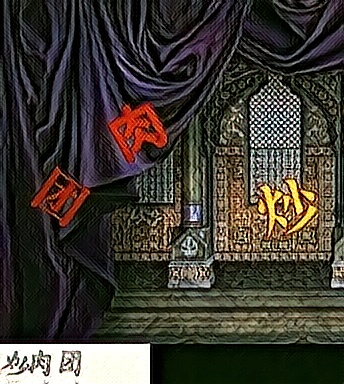B3B4: (256, 177, 318, 241)
C8E2: (107, 100, 169, 164)
CDC5: (28, 164, 90, 228)
